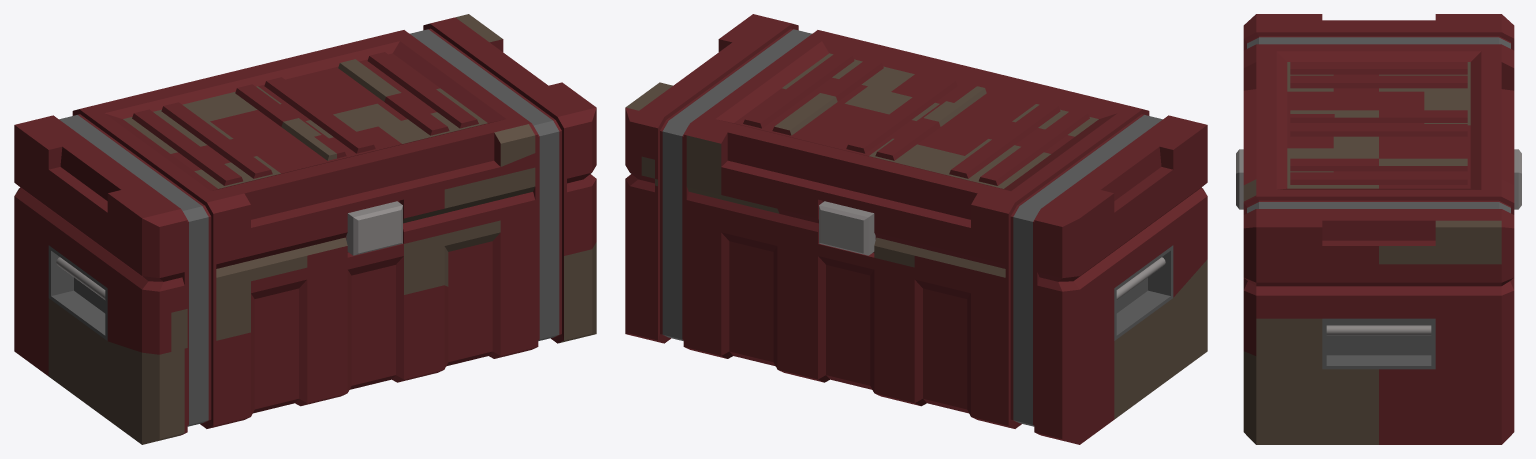
The model's file is cc0-chest-special-lod1.glb.
3 views of the same model, side by side, from view 1: azimuth 30°, elevation 25°; view 2: azimuth 150°, elevation 25°; view 3: azimuth 270°, elevation 25° (orthographic). The views are drawn at different scales.
Visible parts, largest first — view 1: part_0; view 2: part_0; view 3: part_0.
Boxes of the visible parts, box(x1,y1,x2,y2) form: part_0: box(14, 14, 596, 444); part_0: box(625, 14, 1207, 444); part_0: box(1236, 14, 1521, 444).
Bounding box in the file's own units: 0.8524 × 0.4062 × 0.4829.
Materials: 1 (1 with a texture image).
